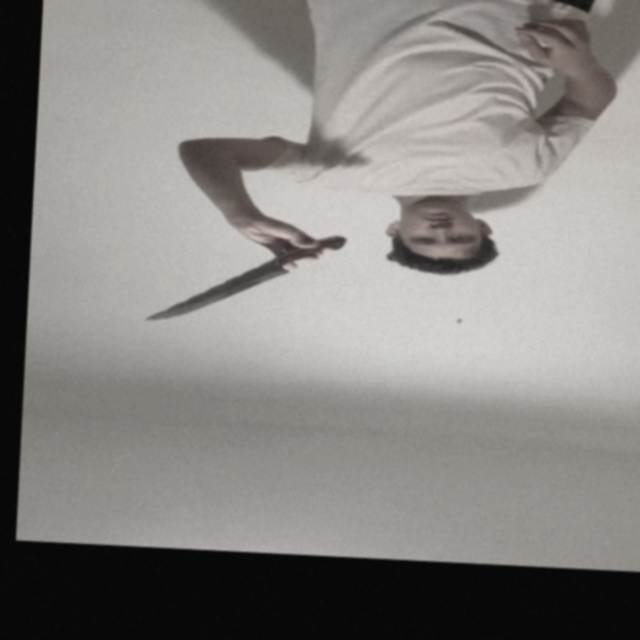Sharp-Object: (148, 261, 293, 328)
